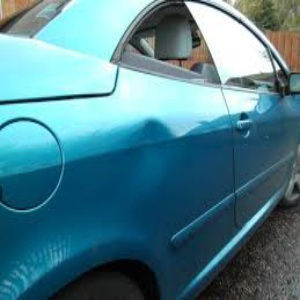door: (128, 103, 242, 175)
